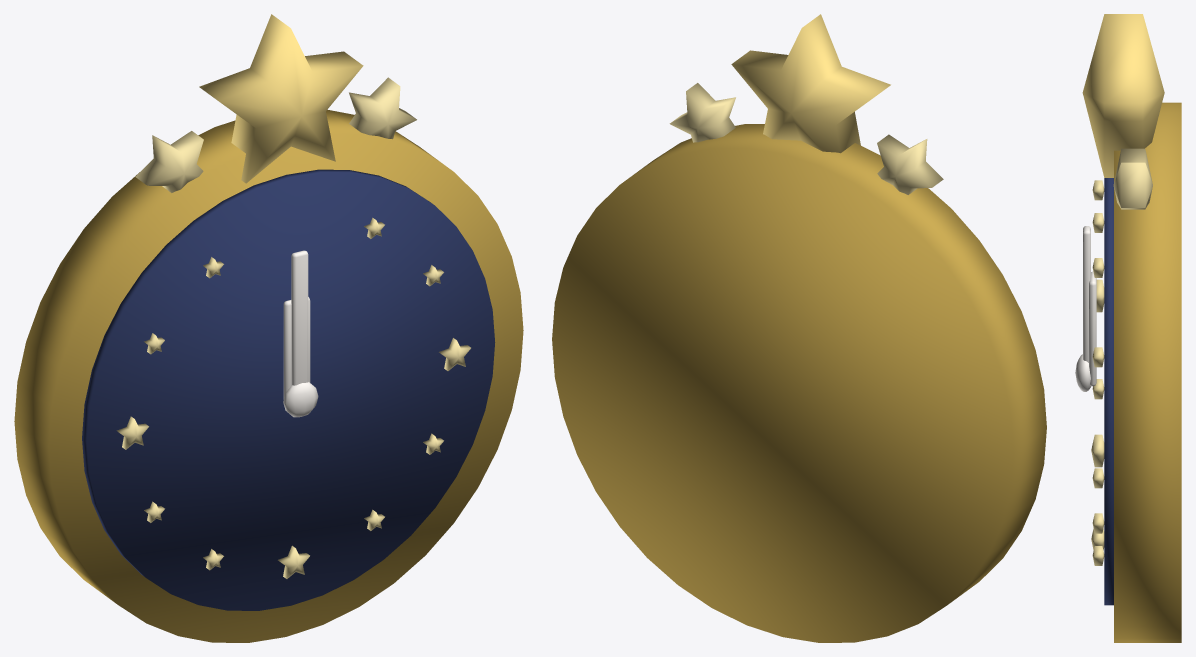
Rendered from star-clock.glb.
The picture shows the model from 3 angles, left to right: view 1: azimuth 30°, elevation 25°; view 2: azimuth 150°, elevation 25°; view 3: azimuth 270°, elevation 25°; orthographic projection. The views are drawn at different scales.
Parts seen in each view (by area): view 1: clock, minuteHand, hourHand; view 2: clock; view 3: clock, minuteHand, hourHand.
Boxes of the visible parts, x1=… form: clock: x1=14, y1=14, x2=523, y2=642; minuteHand: x1=291, y1=250, x2=308, y2=385; hourHand: x1=283, y1=297, x2=310, y2=399; clock: x1=552, y1=14, x2=1046, y2=642; clock: x1=1075, y1=14, x2=1181, y2=642; minuteHand: x1=1083, y1=226, x2=1090, y2=362; hourHand: x1=1089, y1=271, x2=1096, y2=386.
Bounding box in the file's own units: 0.56 × 0.69 × 0.11.
